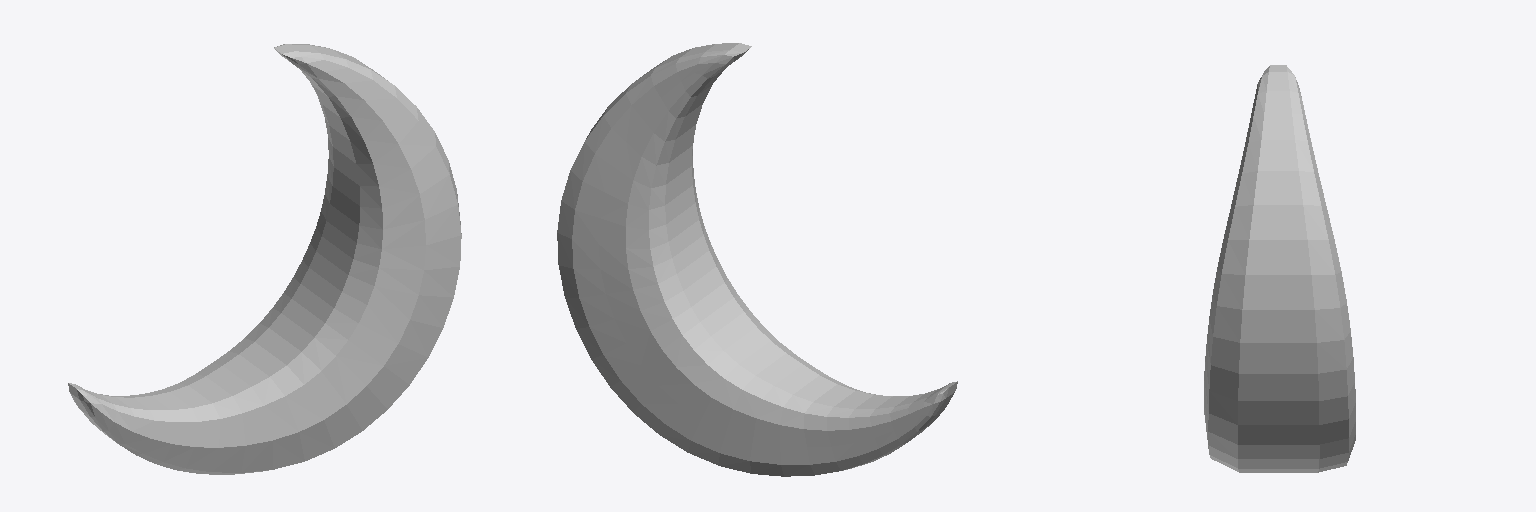
Rendered from Moon-01.obj.
3 renders of one model, left to right at view 1: azimuth 30°, elevation 25°; view 2: azimuth 150°, elevation 25°; view 3: azimuth 270°, elevation 25°, orthographic.
Parts seen in each view (by area): view 1: pCylinder2; view 2: pCylinder2; view 3: pCylinder2.
Boxes of the visible parts, box(x1,y1,x2,y2) form: pCylinder2: box(68, 44, 461, 474); pCylinder2: box(557, 43, 957, 476); pCylinder2: box(1204, 65, 1355, 472).
Size of the model in its own units: 35.69 by 37.05 by 12.79.